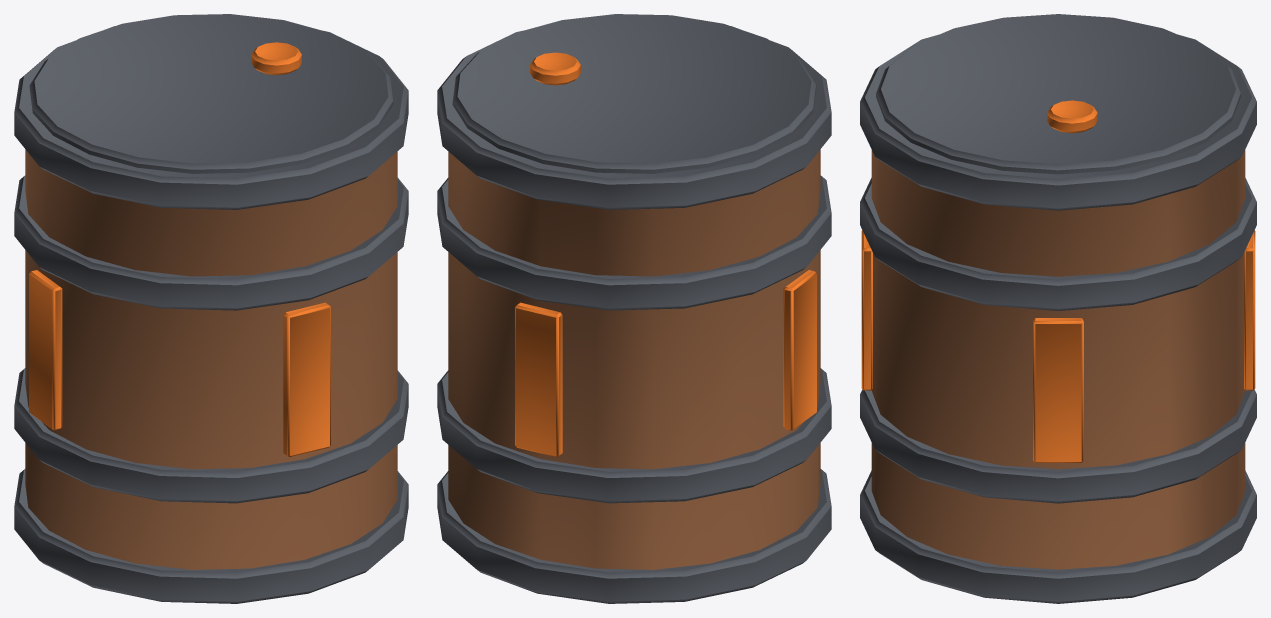
The model's file is hazard_barrel.glb.
3 renders of one model, left to right at view 1: azimuth 30°, elevation 25°; view 2: azimuth 150°, elevation 25°; view 3: azimuth 270°, elevation 25°, orthographic.
Parts seen in each view (by area): view 1: hazard_barrel; view 2: hazard_barrel; view 3: hazard_barrel.
Part boxes in pixels (x1,y1,x2,y2): hazard_barrel: (14, 14, 408, 603); hazard_barrel: (437, 14, 831, 603); hazard_barrel: (860, 14, 1256, 603).
Size of the model in its own units: 0.86 by 1.07 by 0.86.
